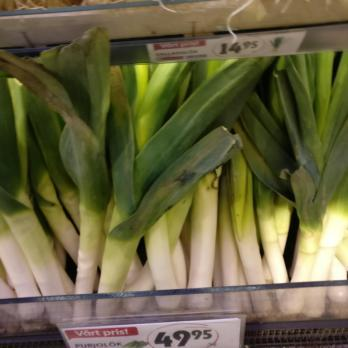Leek Leaves: (12, 62, 348, 281)
